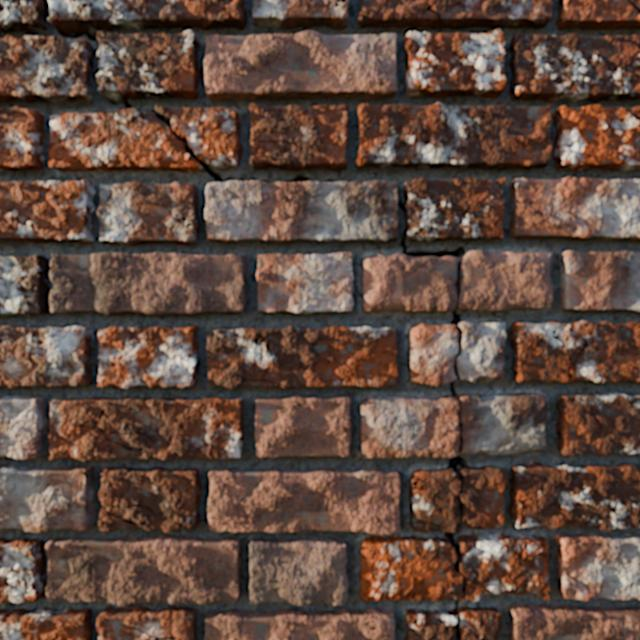broken_brick: (48, 104, 242, 173), (358, 533, 549, 601), (360, 393, 548, 457), (409, 466, 507, 532), (361, 254, 458, 312), (459, 250, 553, 309), (408, 323, 458, 385), (458, 321, 505, 381), (405, 608, 456, 639), (457, 606, 501, 639), (416, 480, 423, 487)
crack: (173, 132, 505, 397), (0, 0, 246, 109), (0, 535, 241, 639), (355, 102, 639, 171), (0, 396, 243, 461), (0, 252, 246, 316), (204, 31, 397, 101), (208, 468, 400, 536), (206, 325, 399, 389), (509, 461, 639, 531), (508, 33, 639, 101), (509, 176, 639, 241), (509, 320, 639, 382), (404, 29, 506, 98), (249, 537, 348, 606), (98, 467, 201, 532), (249, 103, 348, 170), (97, 182, 199, 246), (0, 465, 95, 532), (98, 325, 198, 388), (0, 180, 95, 244), (255, 395, 351, 457), (256, 252, 353, 313), (205, 608, 394, 639), (554, 533, 639, 601), (0, 325, 93, 387), (358, 0, 552, 29), (555, 392, 639, 456), (559, 251, 639, 311), (509, 604, 639, 639), (0, 608, 93, 639), (0, 106, 44, 171), (252, 0, 350, 29), (556, 0, 639, 30), (444, 519, 468, 572), (447, 434, 467, 480), (136, 109, 172, 129), (453, 600, 462, 639), (49, 134, 80, 145), (413, 521, 445, 528), (412, 476, 425, 489), (458, 495, 463, 517), (462, 583, 466, 593), (110, 166, 143, 167), (459, 422, 461, 432), (502, 354, 503, 367)
